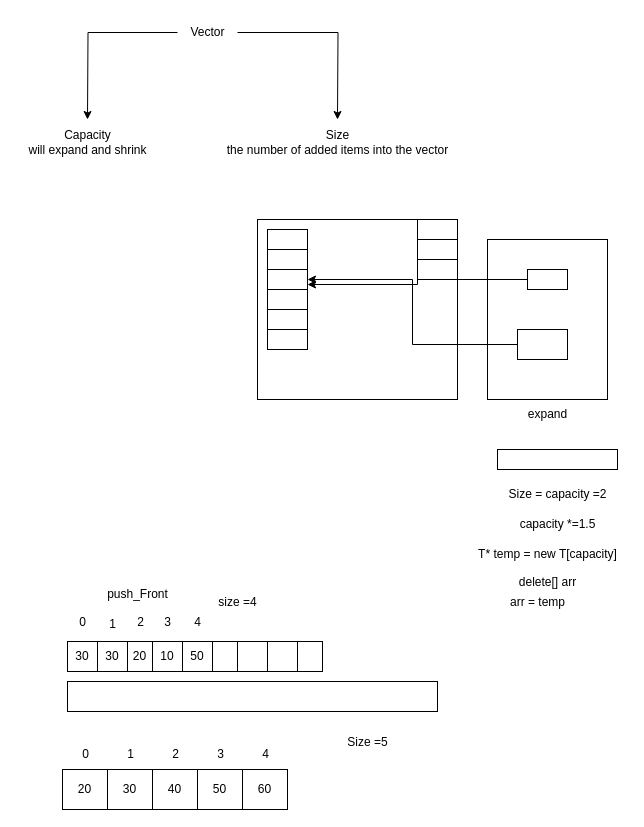
Image size: 644x827. Some labels were removed from this diagram. The box of each missing label's shape, as (x1, y1, x2, y2) in pixels:
T* arr: (526, 268, 568, 290)
T* temp: (516, 328, 568, 360)
